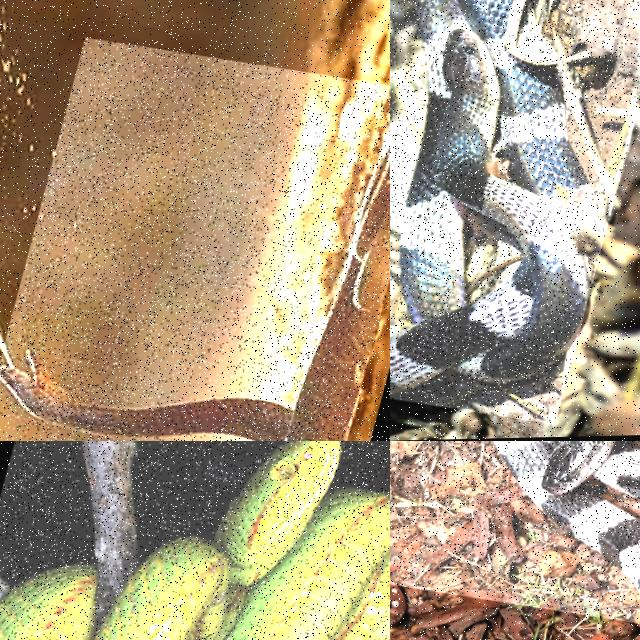Bungarus candidus: (390, 0, 588, 391), (495, 441, 639, 590)
Naja siamensis: (0, 132, 389, 440)
Trimeresurus: (94, 441, 389, 639)
